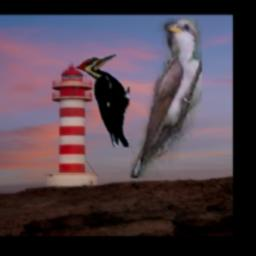Cuckoo: (132, 19, 203, 179)
Woodpecker: (73, 54, 131, 148)
